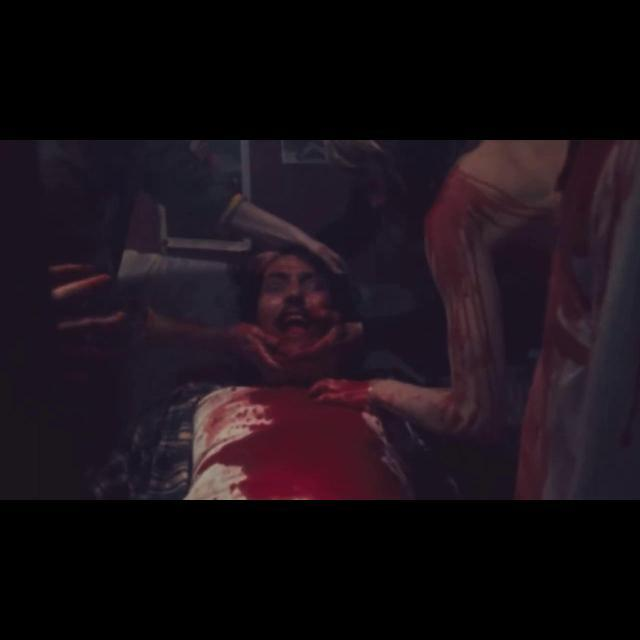blood: (191, 140, 640, 499)
